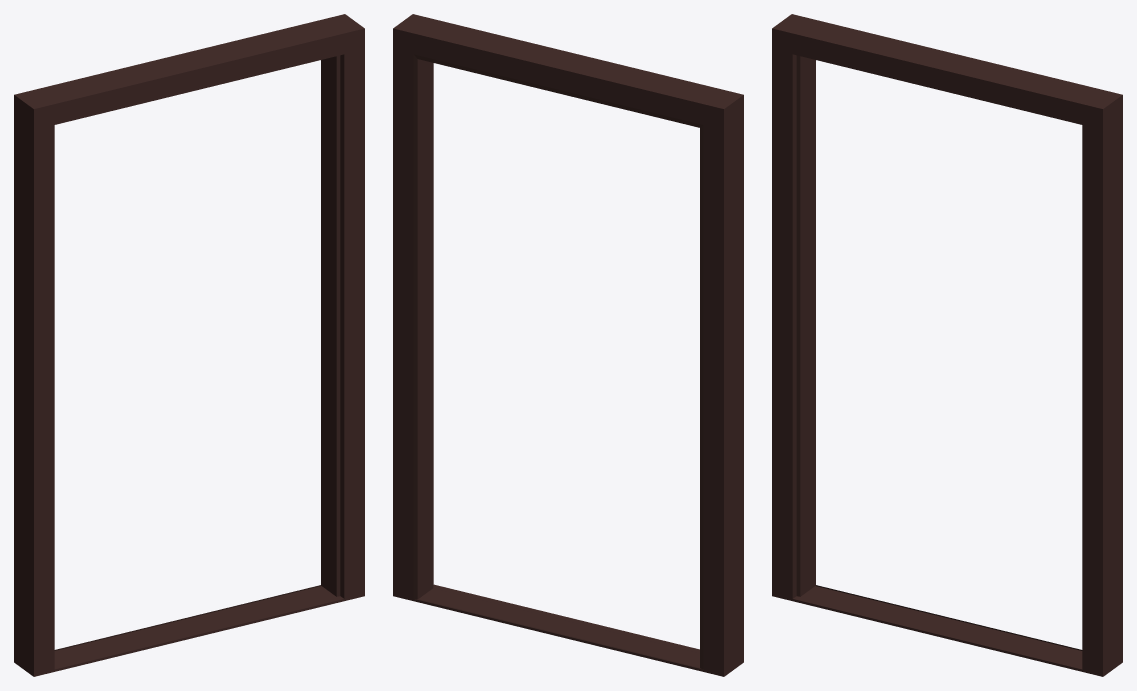
The model's file is DoorFrame.fbx.
The picture shows the model from 3 angles, left to right: view 1: azimuth 30°, elevation 25°; view 2: azimuth 150°, elevation 25°; view 3: azimuth 330°, elevation 25°; orthographic projection.
Parts seen in each view (by area): view 1: DoorFrame; view 2: DoorFrame; view 3: DoorFrame.
Part boxes in pixels (x1=…): DoorFrame: x1=14, y1=14, x2=364, y2=676; DoorFrame: x1=393, y1=14, x2=743, y2=676; DoorFrame: x1=772, y1=14, x2=1122, y2=676.
Bounding box in the file's own units: 594 × 973 × 61.33.
